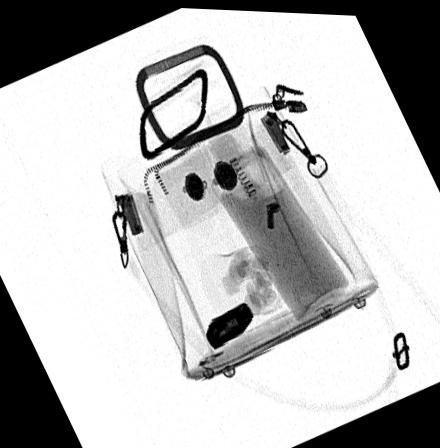Lighter: (204, 297, 254, 348)
